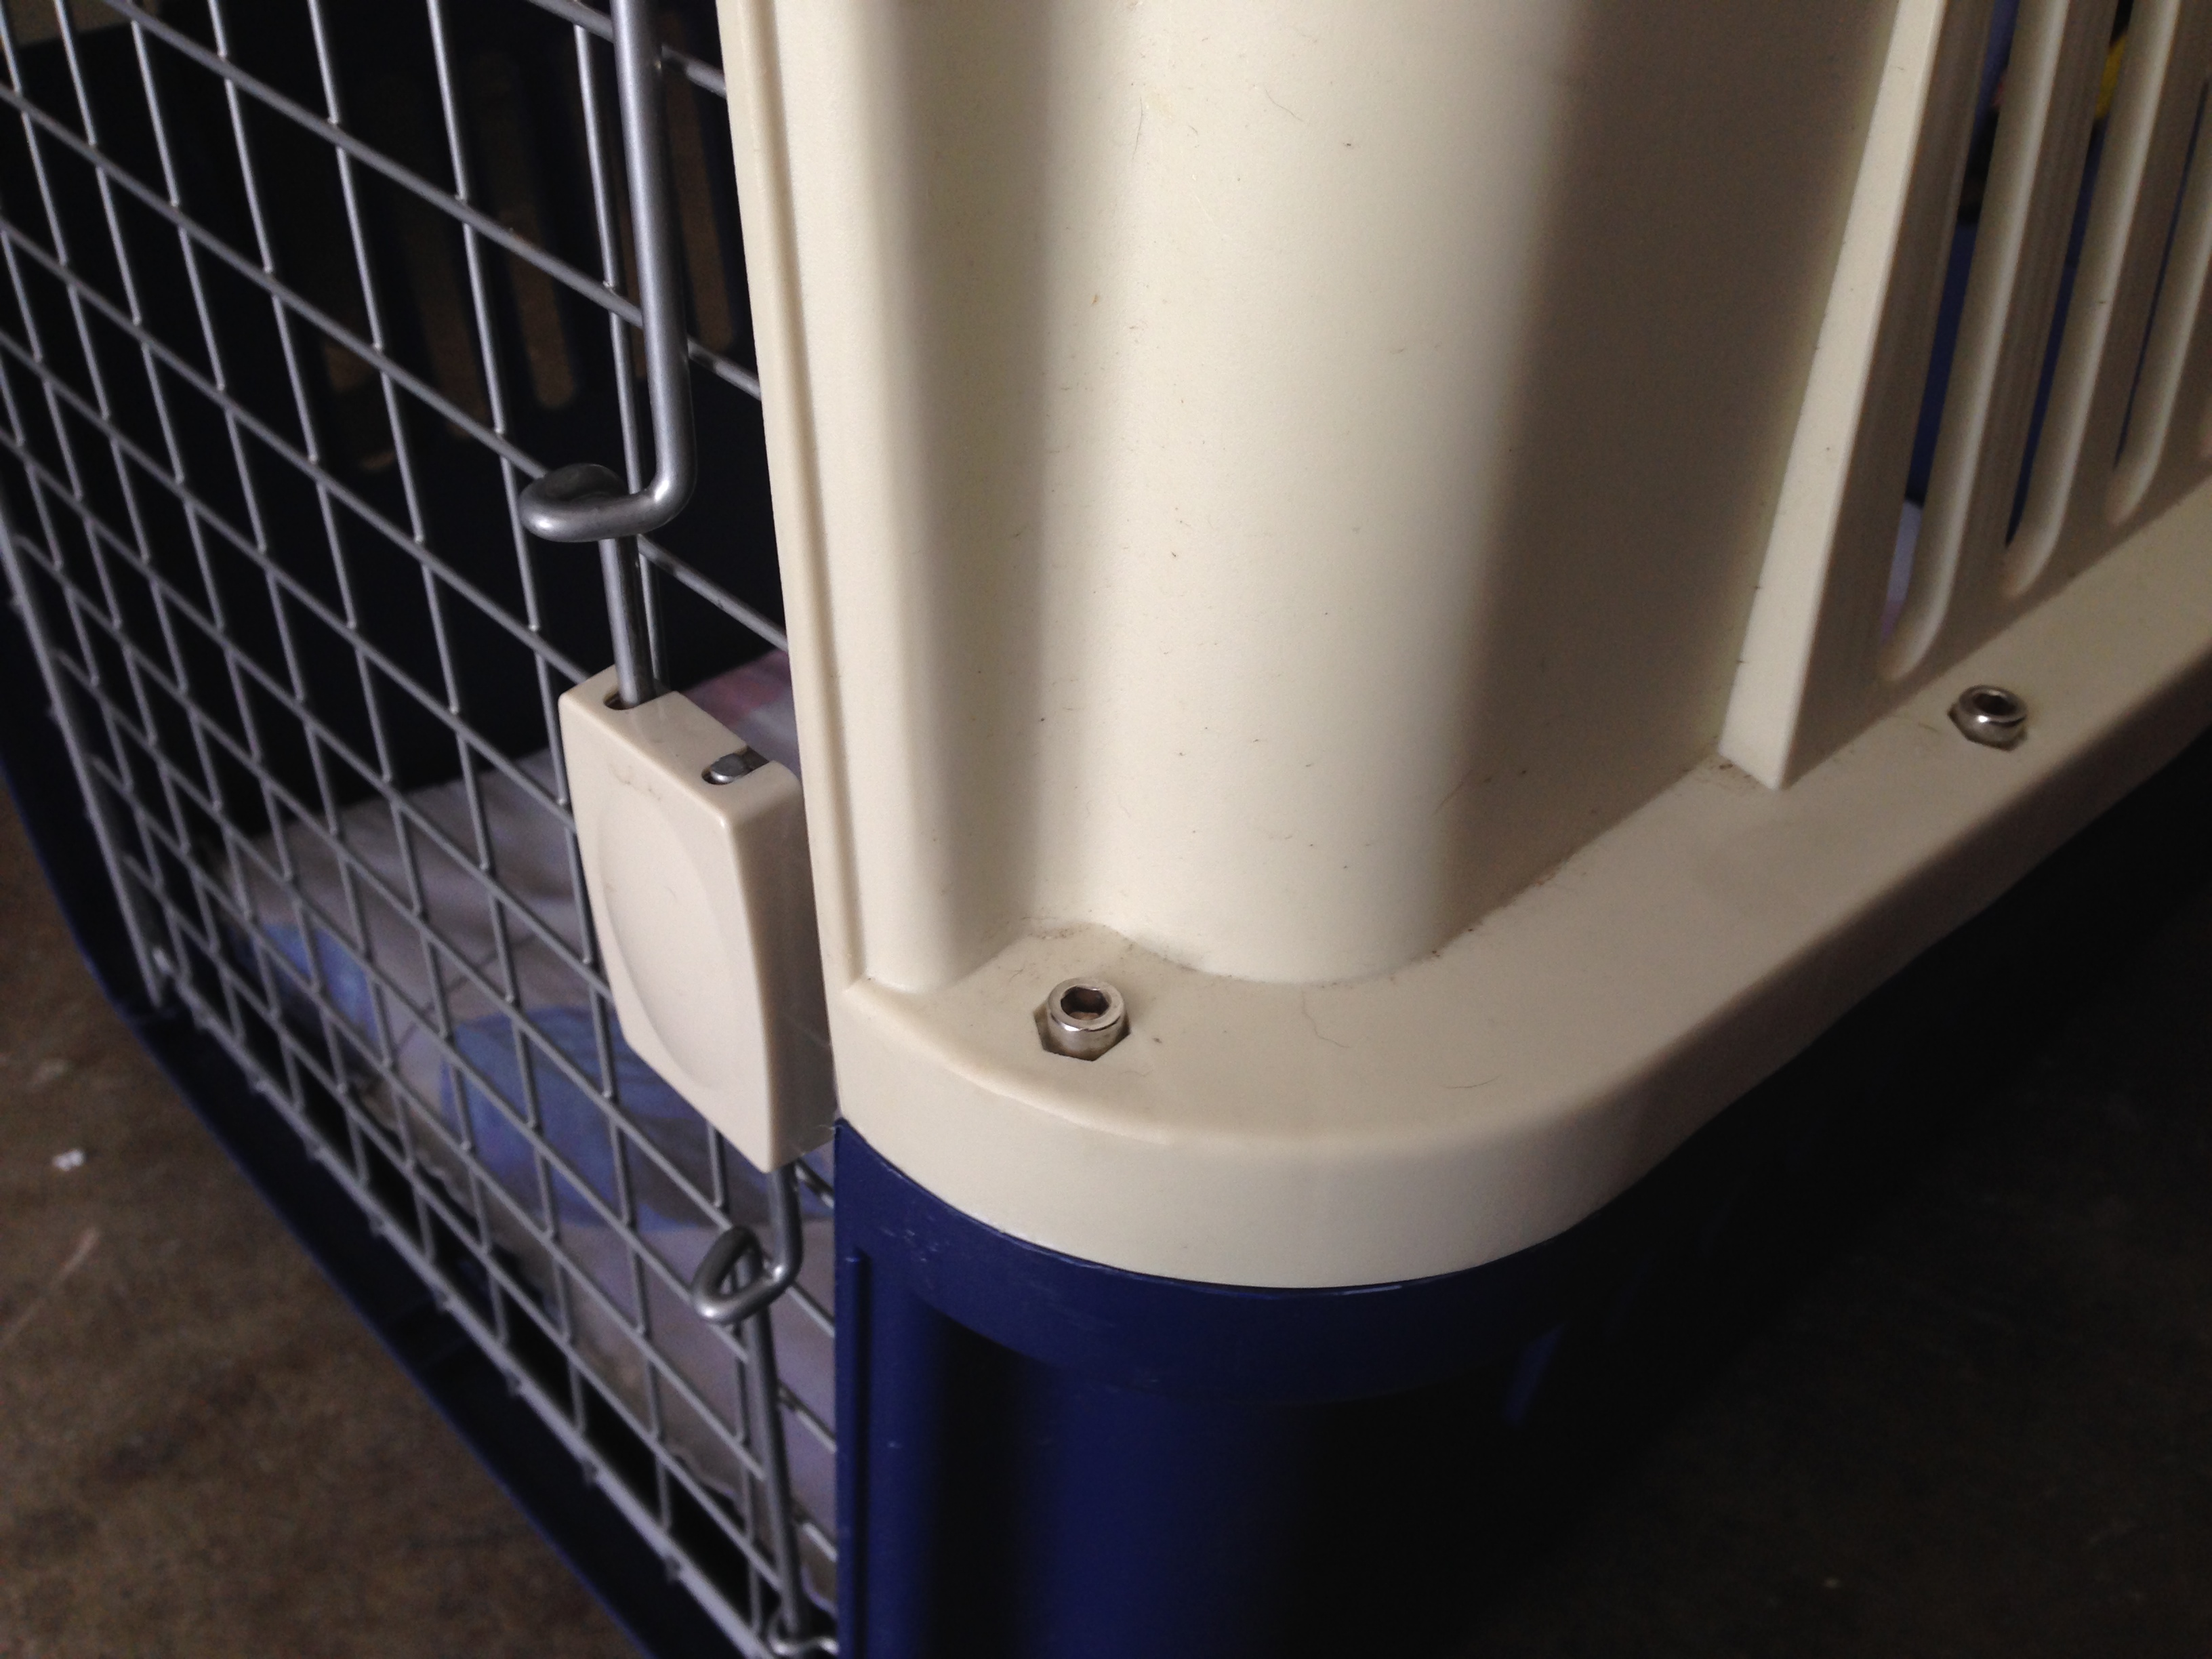bolt: (1029, 974, 1127, 1063), (1946, 676, 2027, 748)
